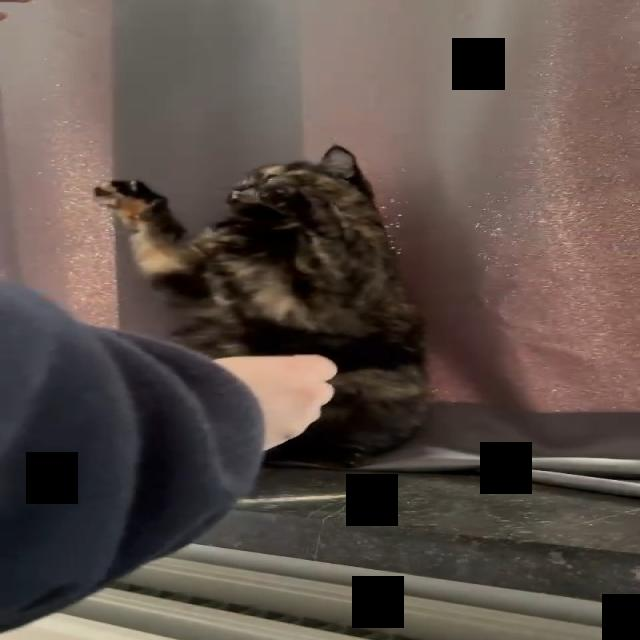authorized: (92, 143, 431, 470)
